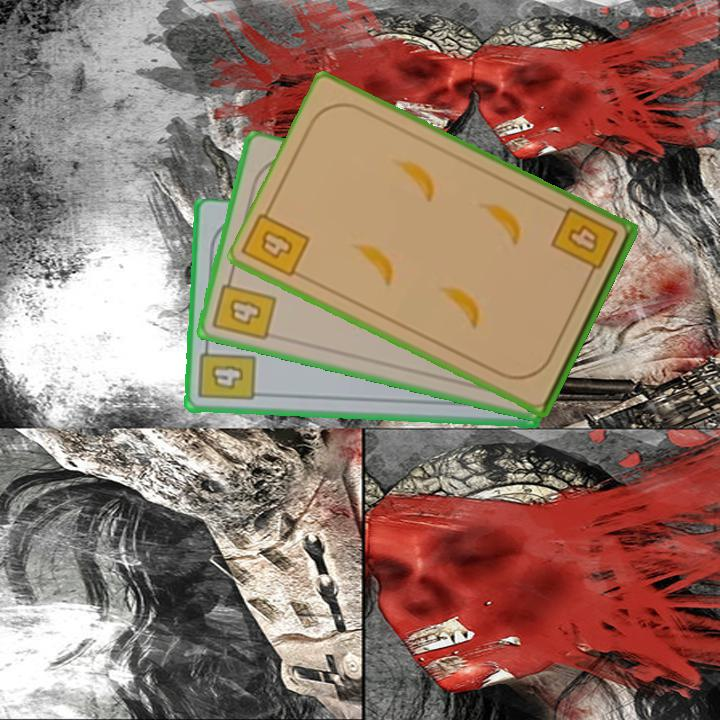4b: (548, 204, 621, 284), (209, 270, 279, 344), (195, 339, 259, 404), (256, 226, 296, 262)
